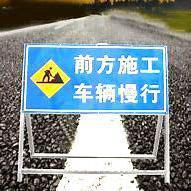sign: (22, 45, 168, 115)
